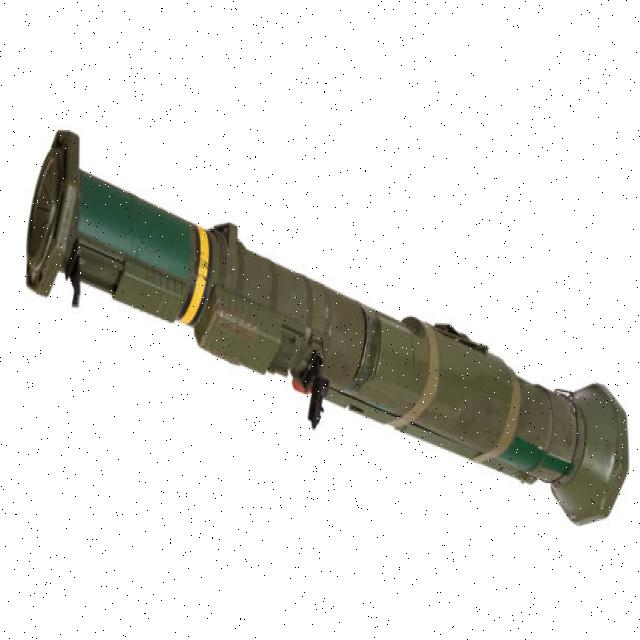bazooka: (24, 127, 634, 535)
